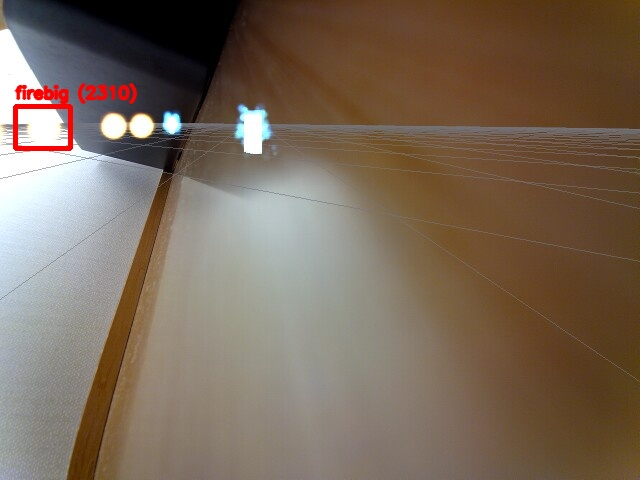firebig: (15, 106, 70, 148)
